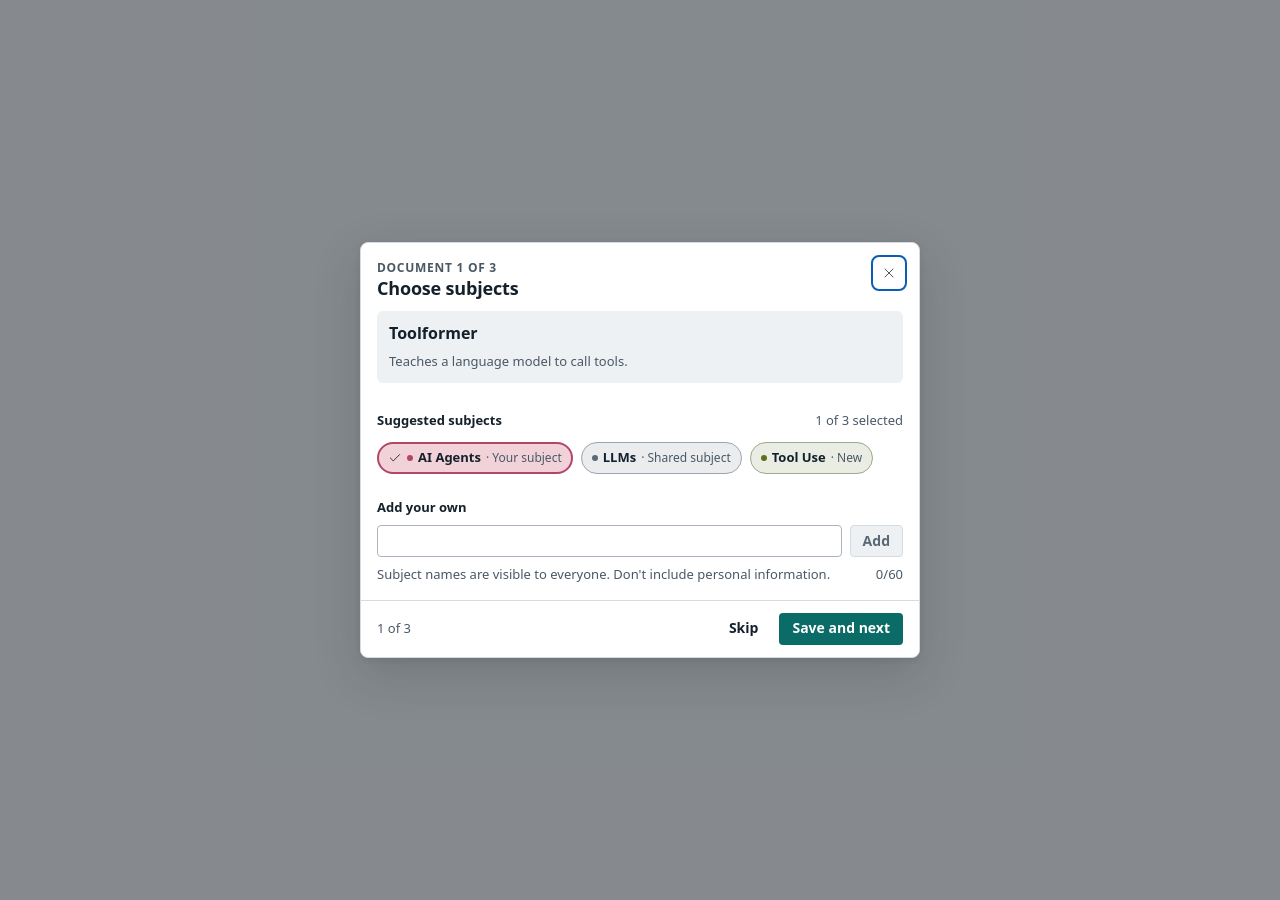
Test: SubjectPicker › in a step-through › disables Skip while a save is pending
Click the button "Save and next" at (841, 629), box [779,613,903,645]
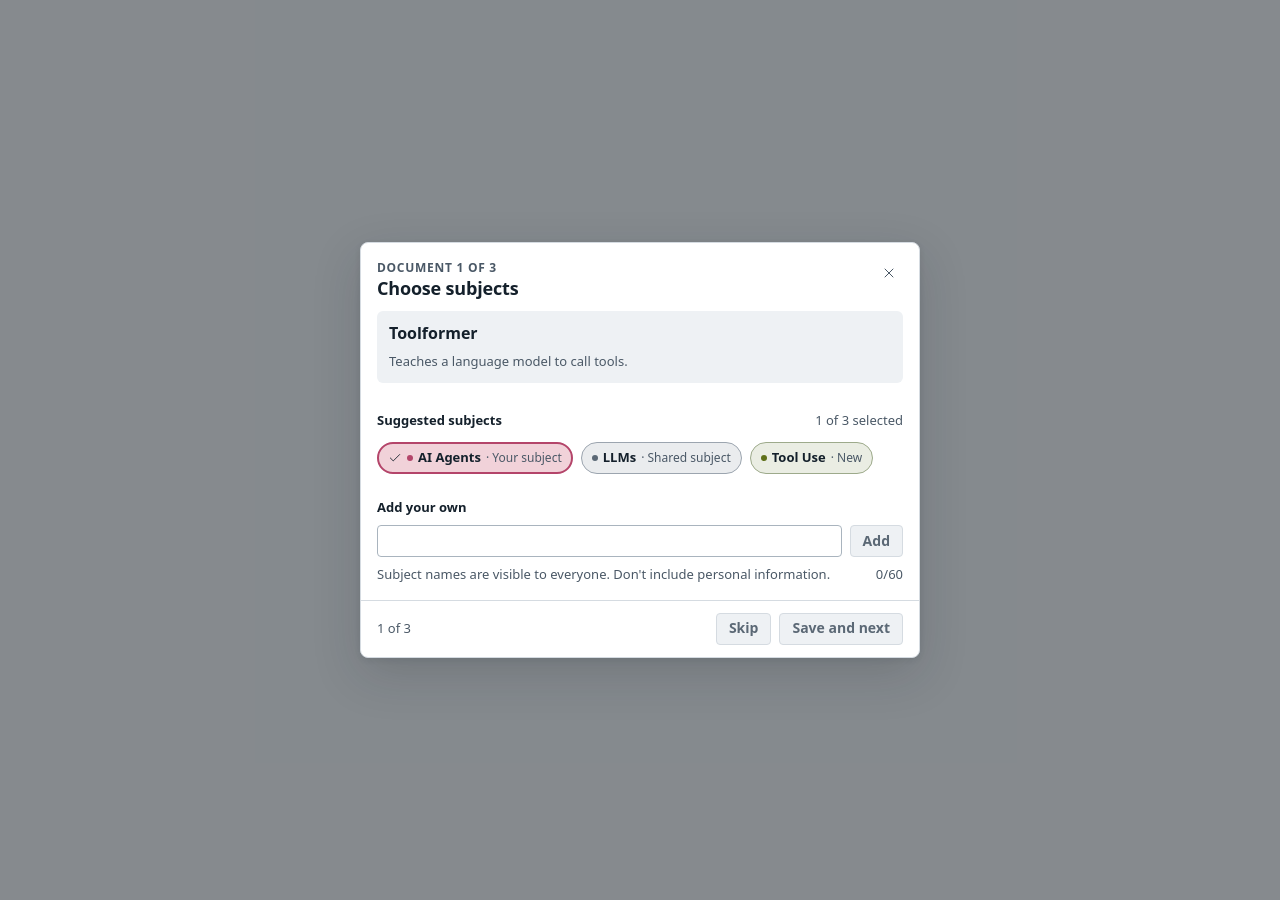
expect the button "Skip" is disabled: met, box [716,613,771,645]
